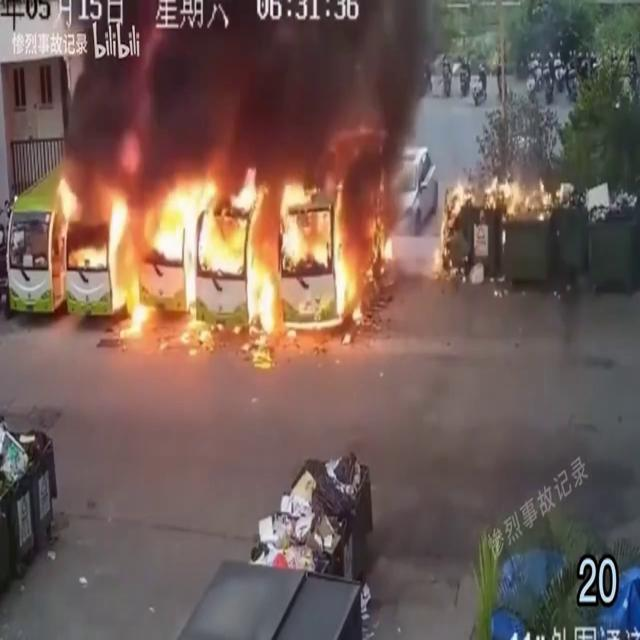multiple_accident: (104, 74, 435, 374)
